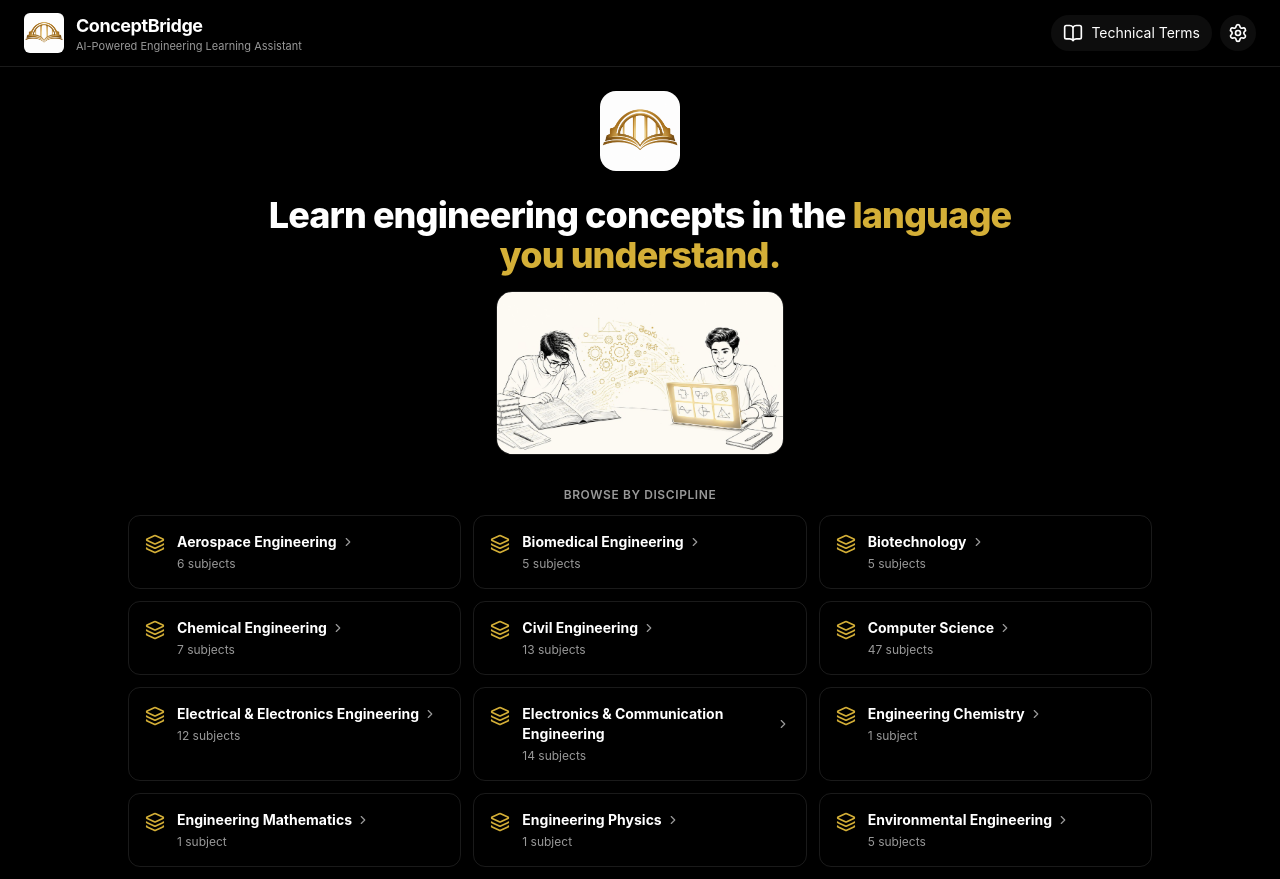
Scenario: App — discipline/subject/topic catalogue navigation › clicking a subject card opens its real, multi-unit structure — not one giant unit
Click the button "Engineering Physics 1 subject".
click(640, 830)  # box [473, 793, 807, 867]
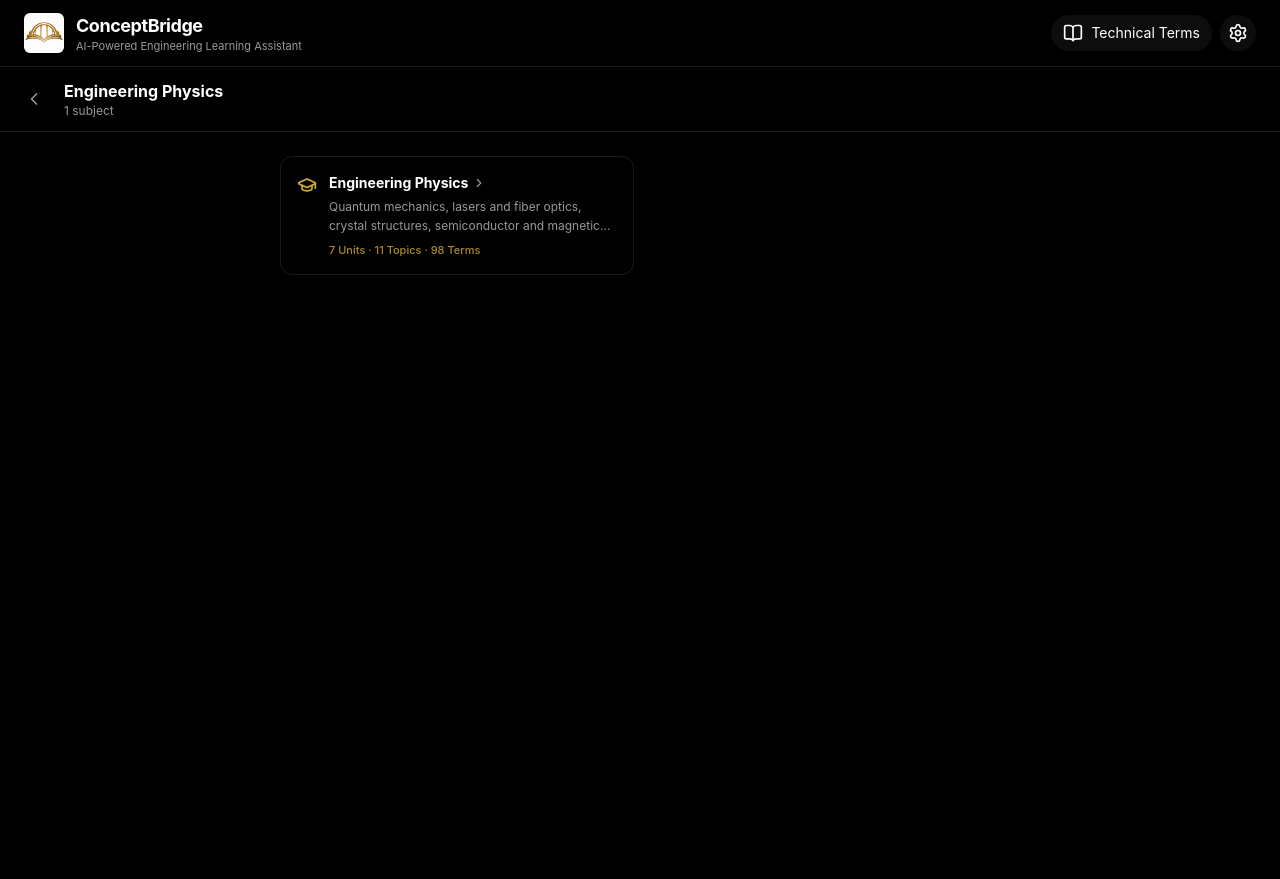
Click the 2nd heading "Engineering Physics".
click(408, 182)  # box [329, 174, 486, 191]
(page scrolled)
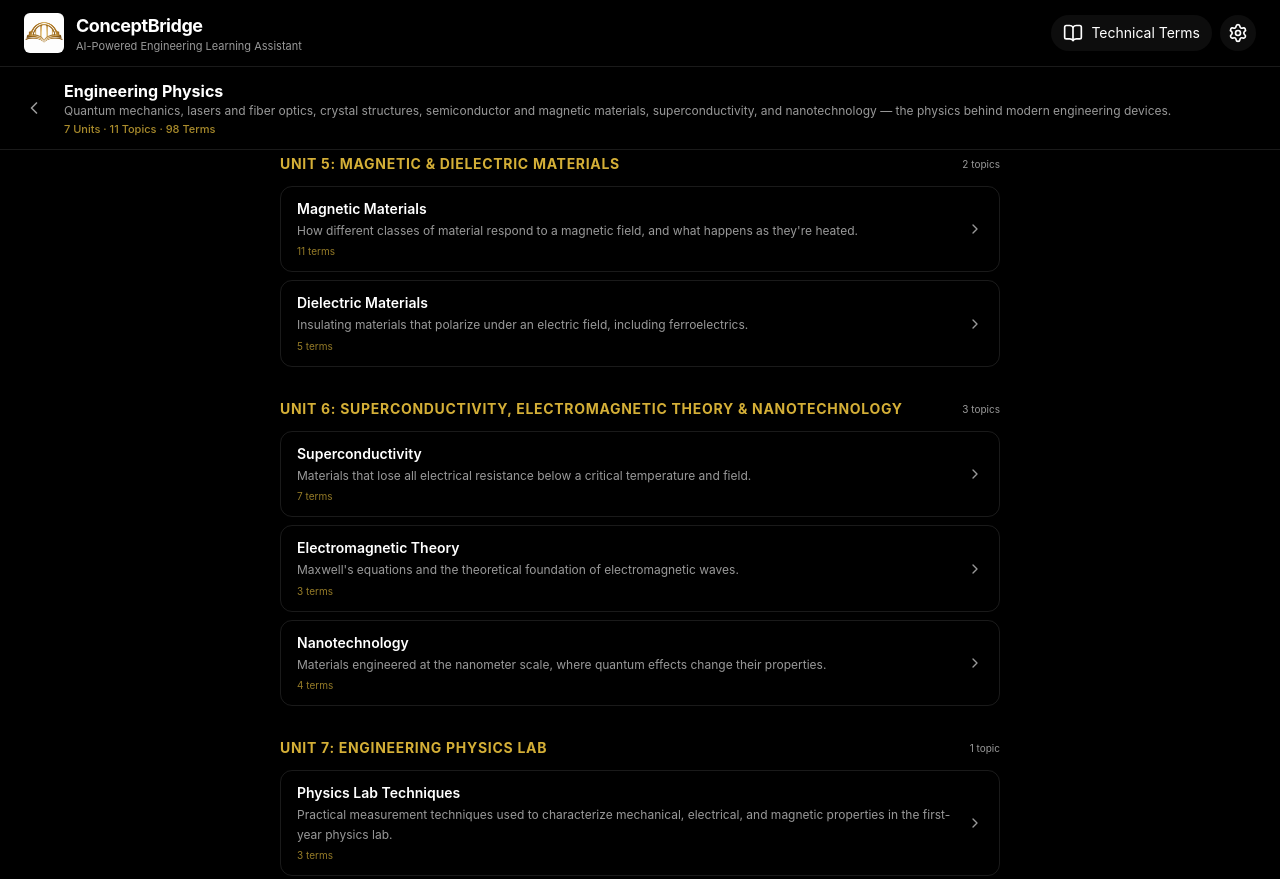
Result: the text "Unit 6: Superconductivity, Electromagnetic Theory & Nanotechnology" is shown at [280, 399, 903, 419]
Result: the heading "Nanotechnology" is shown at [297, 634, 409, 651]
